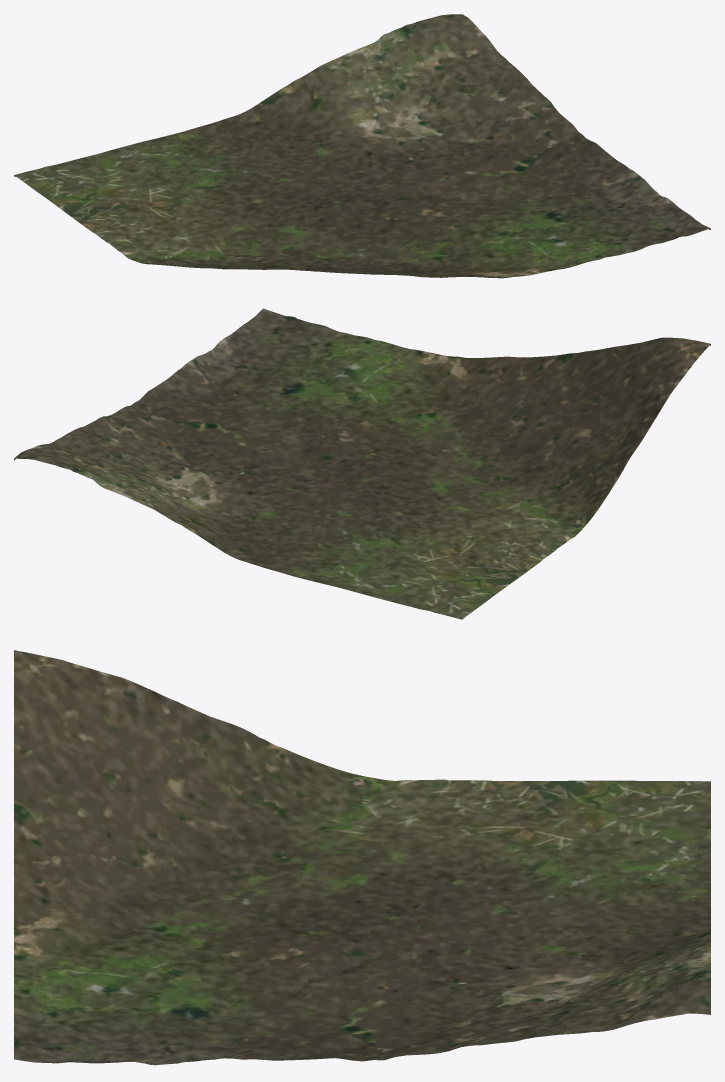
3 renders of one model, top to bottom at view 1: azimuth 30°, elevation 25°; view 2: azimuth 150°, elevation 25°; view 3: azimuth 270°, elevation 25°, orthographic. The views are drawn at different scales.
Size of the model in its own units: 250 by 50.96 by 241.
1 material, 1 textured.
